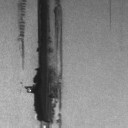slag inclusion: (23, 0, 64, 128), (16, 0, 27, 71), (108, 0, 112, 30), (56, 114, 62, 128)
